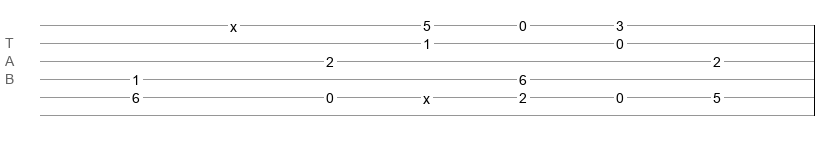0: (326, 90, 334, 100), (519, 18, 527, 28), (616, 36, 624, 46), (616, 90, 624, 100)
1: (132, 72, 140, 82), (423, 36, 431, 46)
2: (326, 54, 334, 64), (519, 90, 527, 100), (713, 54, 721, 64)
3: (616, 18, 624, 28)
5: (423, 18, 431, 28), (713, 90, 721, 100)
6: (132, 90, 140, 100), (519, 72, 527, 82)
x: (230, 19, 237, 27), (423, 91, 430, 99)
